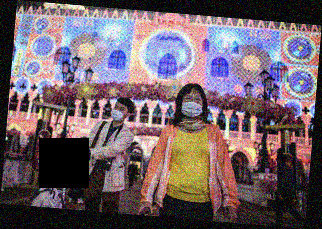with_mask: (180, 92, 205, 119), (109, 105, 129, 123)
